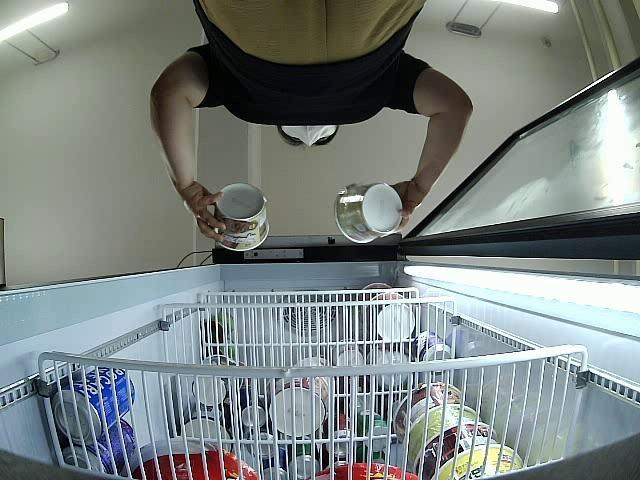03_chapagetti_L: (334, 182, 404, 244), (210, 183, 270, 252)
